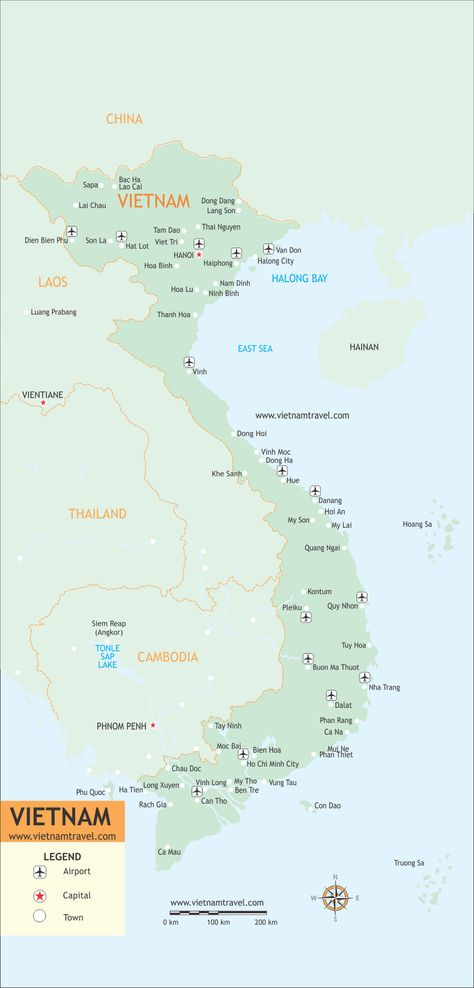Island: (389, 841, 456, 924), (400, 486, 462, 563)
